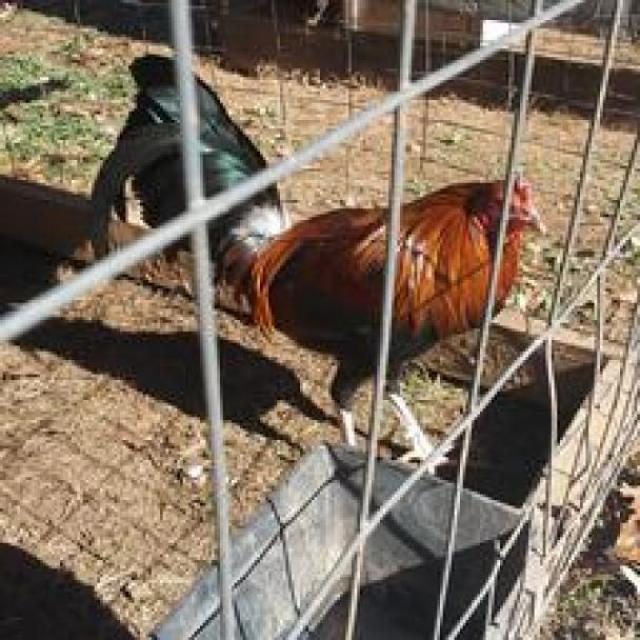Chicken: (105, 34, 558, 490)
